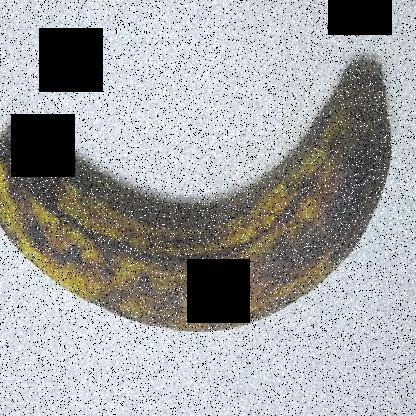overripe: (0, 41, 403, 350)
